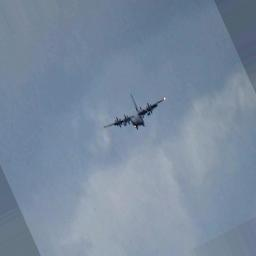Airplane: (102, 96, 167, 133)
